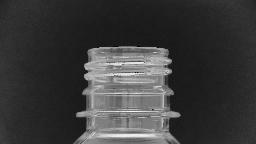No Cap: (71, 41, 185, 121)
